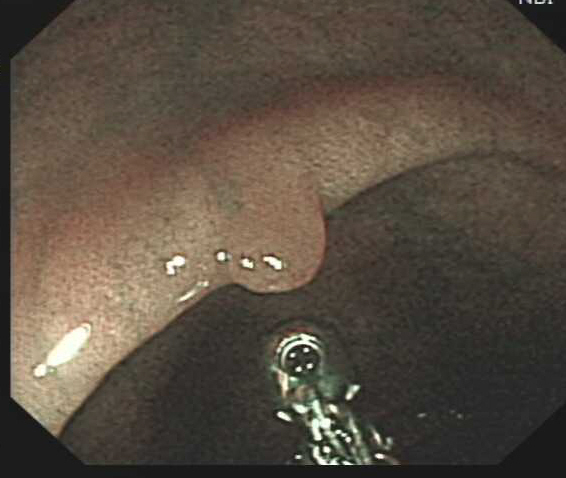others: (223, 183, 328, 296)
